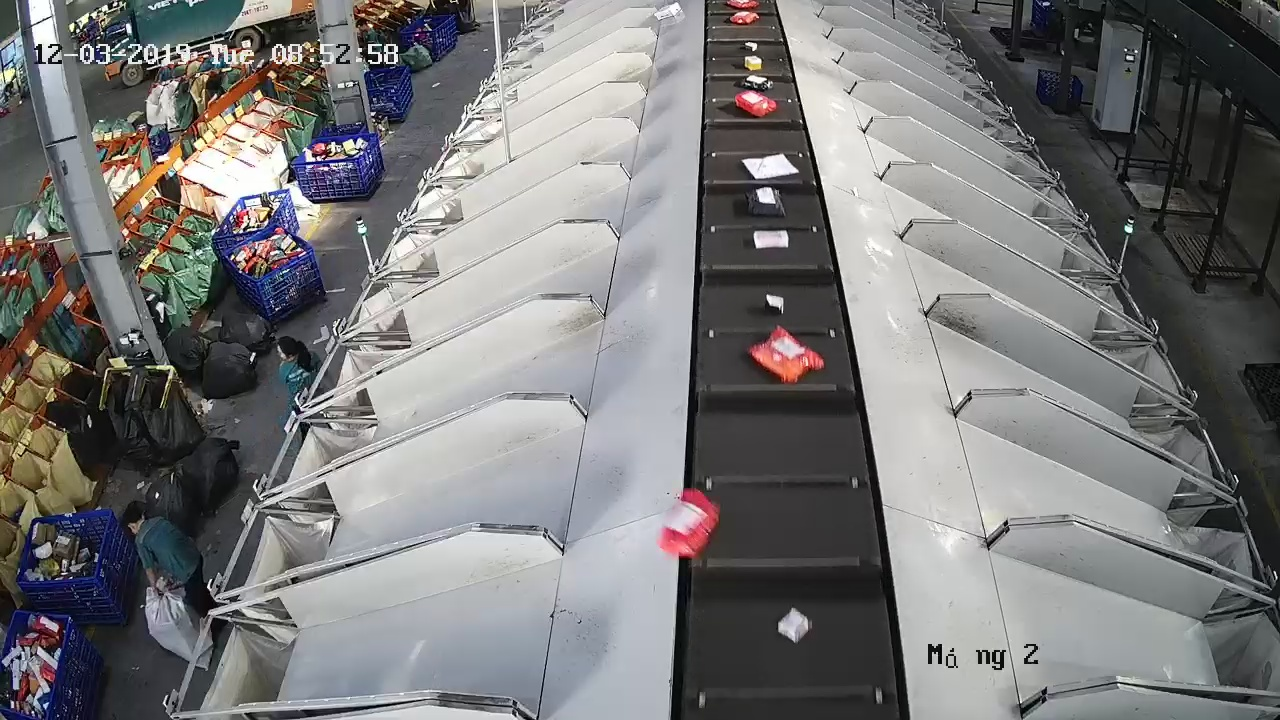parcel: (745, 323, 826, 386), (655, 487, 722, 561), (740, 151, 801, 180), (743, 183, 788, 218), (777, 605, 812, 646), (752, 228, 790, 251), (763, 292, 786, 317)
